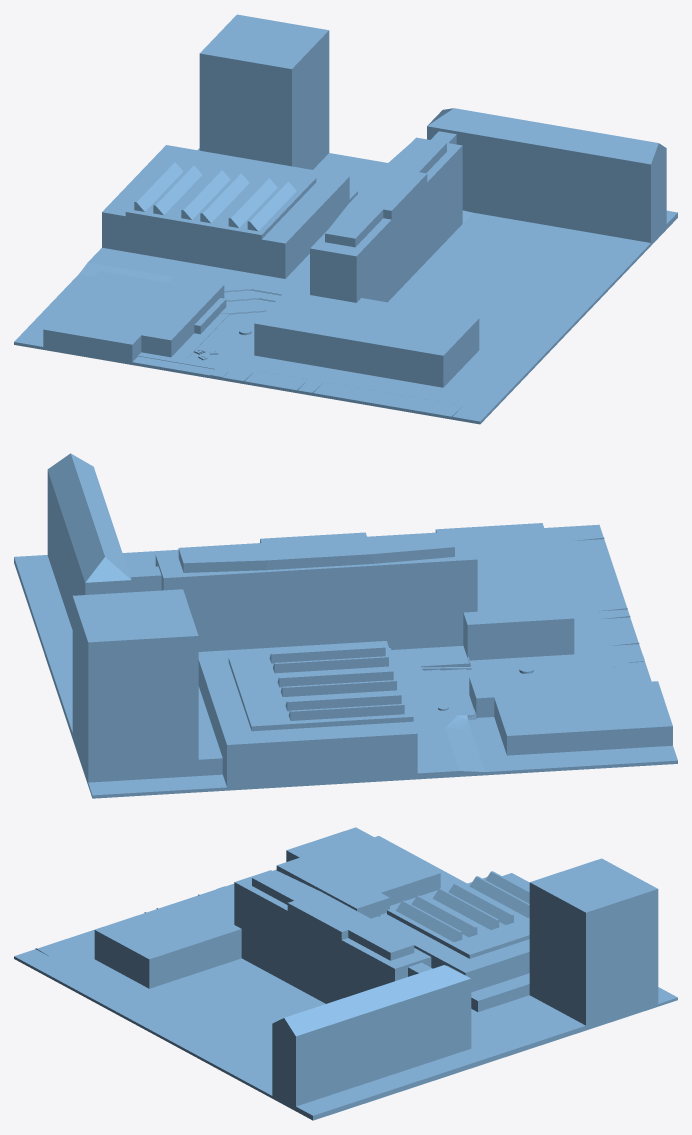
Rendered from gazebo.dae.
3 views of the same model, one above another, from view 1: azimuth 30°, elevation 25°; view 2: azimuth 150°, elevation 25°; view 3: azimuth 270°, elevation 25° (orthographic). The views are drawn at different scales.
Parts seen in each view (by area): view 1: Gazebo World; view 2: Gazebo World; view 3: Gazebo World.
Boxes of the visible parts, left/top/right/bottom form: Gazebo World: left=14, top=14, right=677, bottom=424; Gazebo World: left=14, top=453, right=677, bottom=798; Gazebo World: left=14, top=827, right=677, bottom=1120.
Size of the model in its own units: 226 by 225 by 44.
